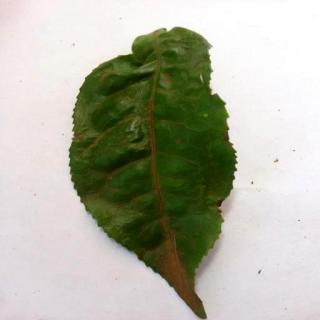Algal Leaf: (69, 25, 237, 320)
